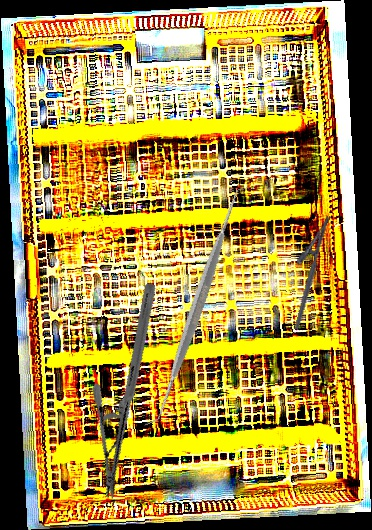Needle Holder: (46, 281, 214, 501), (278, 210, 332, 331)
Spatula Surgical: (77, 185, 317, 427)
